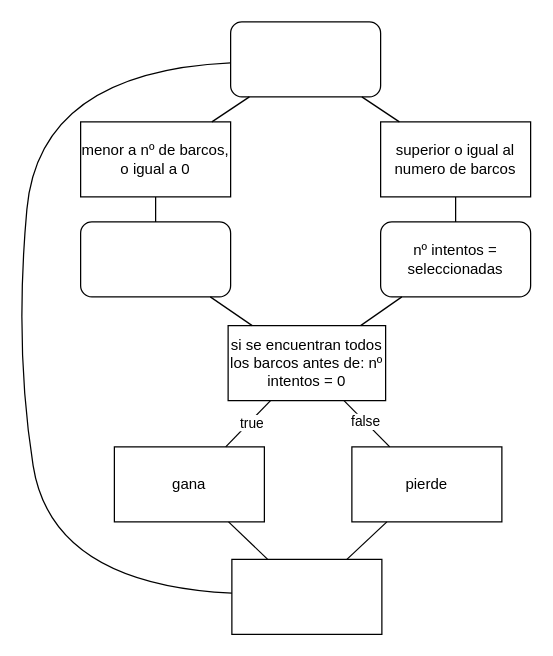
Some shapes in this 553 by 656 pixel diagram are drawn without their labels. Each missing label, with the box of its shape:
nº intentos: (229, 21, 381, 97)
nº intentos = 40: (79, 221, 231, 297)
se acabo la partida: (231, 558, 382, 634)
